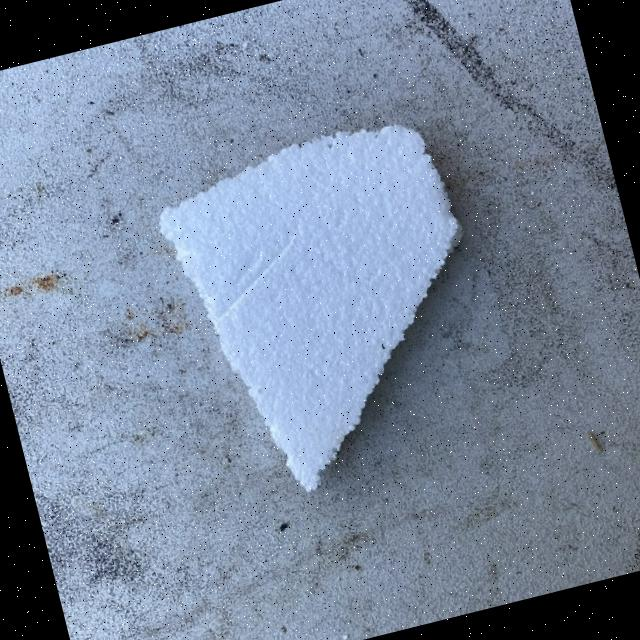styrofoam: (143, 104, 515, 514)
